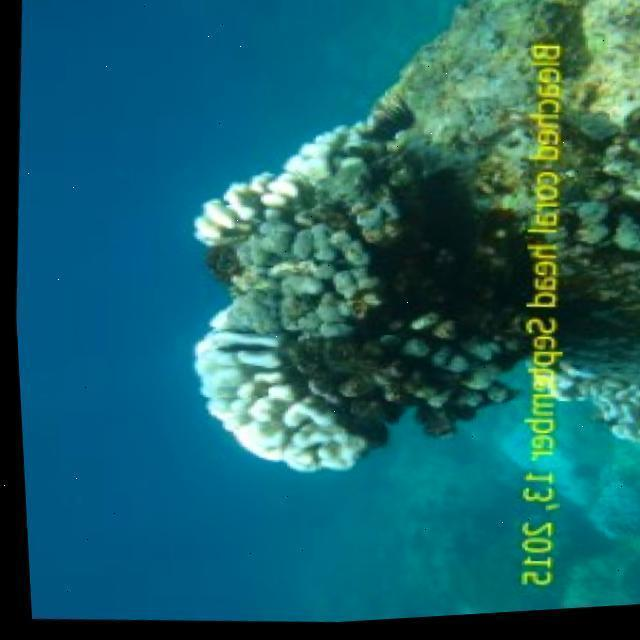Bleached Coral: (153, 312, 381, 500), (179, 106, 337, 278)
